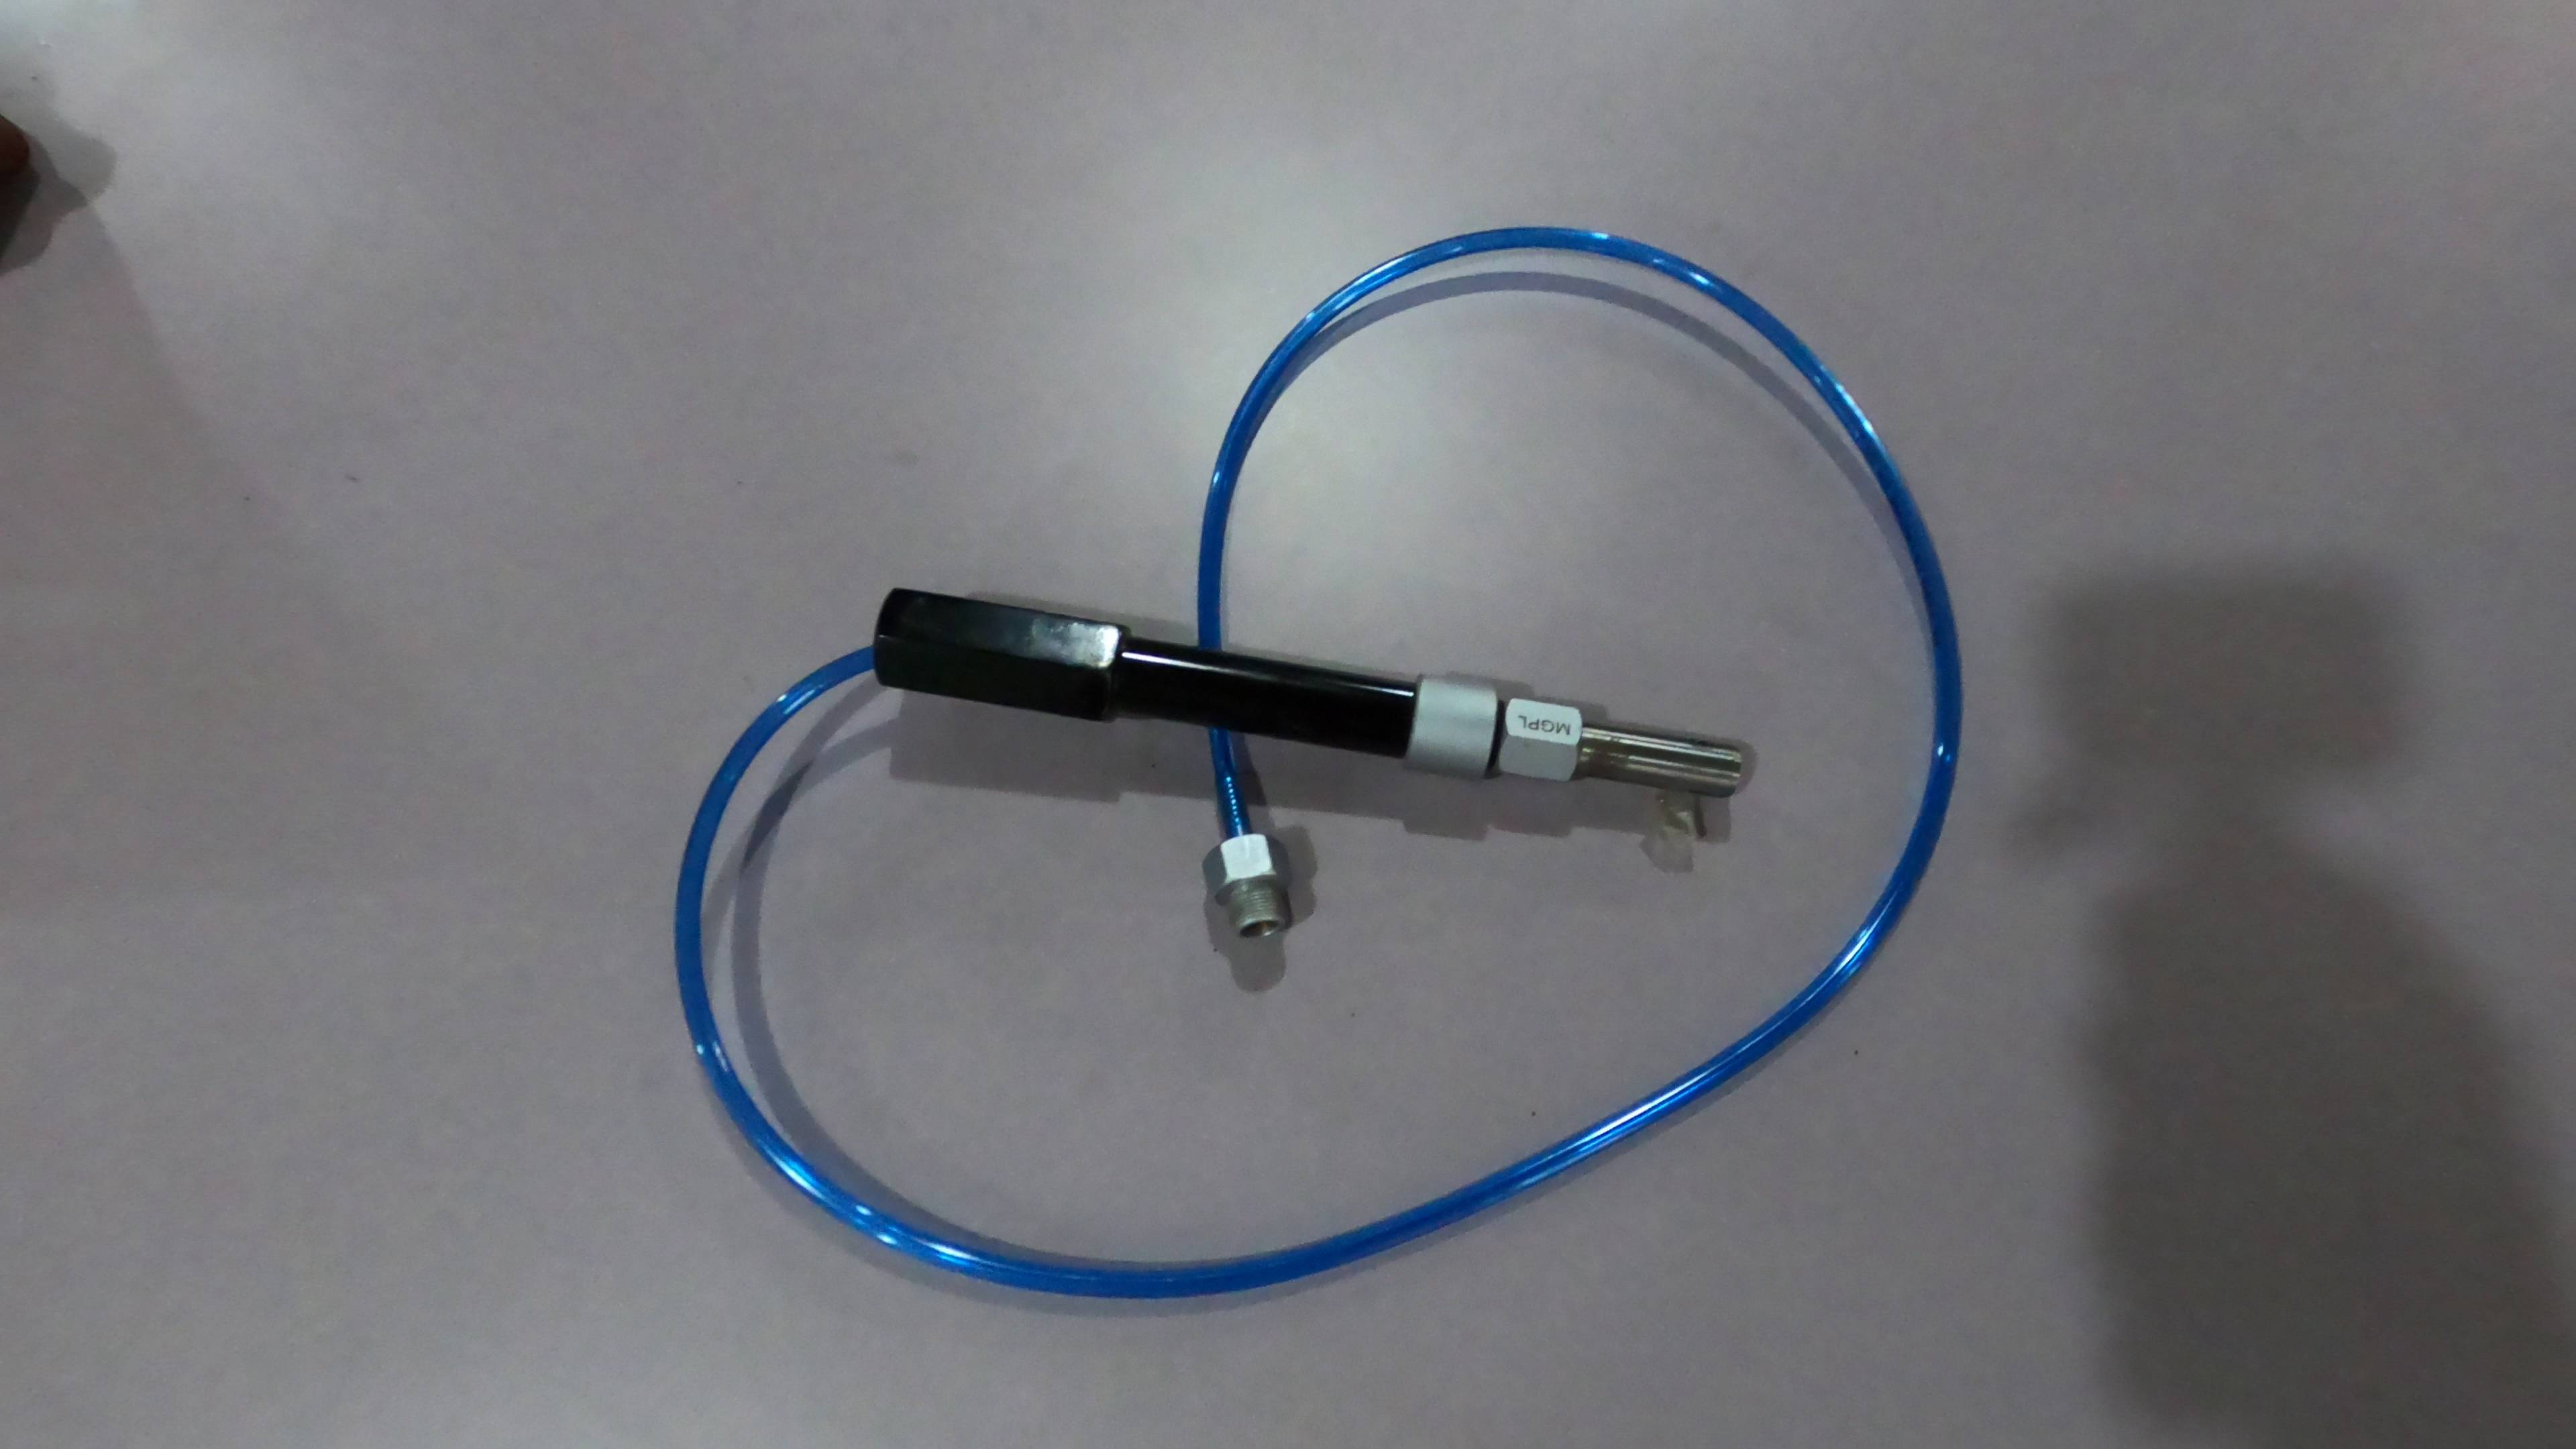air_gauge: (876, 571, 1744, 819)
